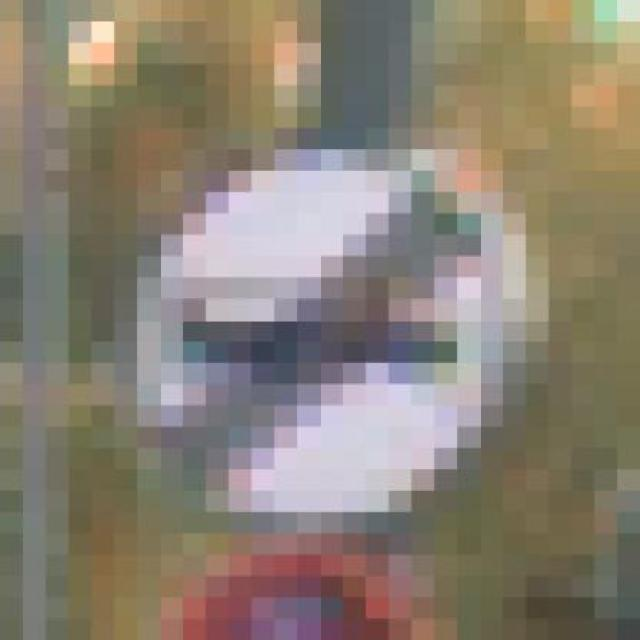No_Over_Taking: (91, 107, 572, 555)
